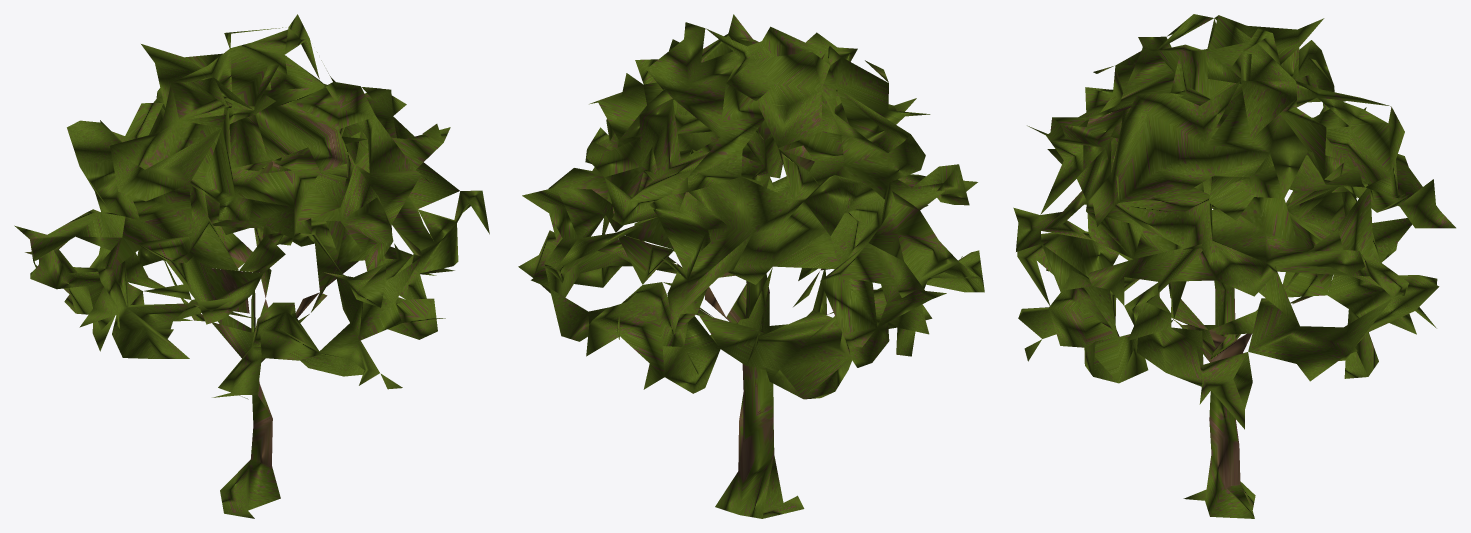
Rendered from arena-tree-lite.glb.
The picture shows the model from 3 angles, left to right: view 1: azimuth 30°, elevation 25°; view 2: azimuth 150°, elevation 25°; view 3: azimuth 270°, elevation 25°; orthographic projection. The views are drawn at different scales.
Visible parts, largest first — view 1: tripo_node_594ccff8-5ac3-47ed-bcc4-3875ab1984e7; view 2: tripo_node_594ccff8-5ac3-47ed-bcc4-3875ab1984e7; view 3: tripo_node_594ccff8-5ac3-47ed-bcc4-3875ab1984e7.
Boxes of the visible parts, x1=… form: tripo_node_594ccff8-5ac3-47ed-bcc4-3875ab1984e7: x1=14, y1=14, x2=489, y2=518; tripo_node_594ccff8-5ac3-47ed-bcc4-3875ab1984e7: x1=518, y1=14, x2=984, y2=518; tripo_node_594ccff8-5ac3-47ed-bcc4-3875ab1984e7: x1=1013, y1=14, x2=1455, y2=518.
Bounding box in the file's own units: 0.8757 × 0.9841 × 0.8175.
1 material, 1 textured.
